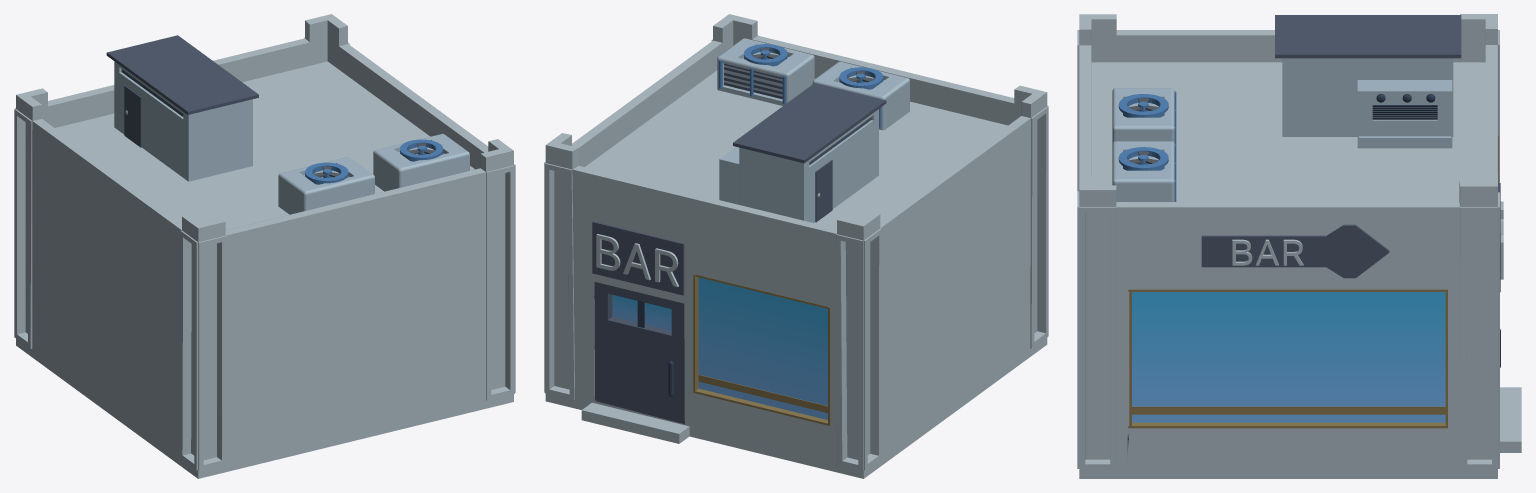
Rendered from Bar.glb.
3 views of the same model, side by side, from view 1: azimuth 30°, elevation 25°; view 2: azimuth 150°, elevation 25°; view 3: azimuth 270°, elevation 25° (orthographic). The views are drawn at different scales.
Visible parts, largest first — view 1: Node; view 2: Node; view 3: Node.
Boxes of the visible parts, bbox=[...] form: Node: bbox=[14, 14, 515, 478]; Node: bbox=[544, 14, 1048, 478]; Node: bbox=[1077, 14, 1521, 478].
Size of the model in its own units: 272 by 231 by 283.
1 material, 1 textured.
